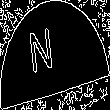N_S: (41, 27, 69, 83)
